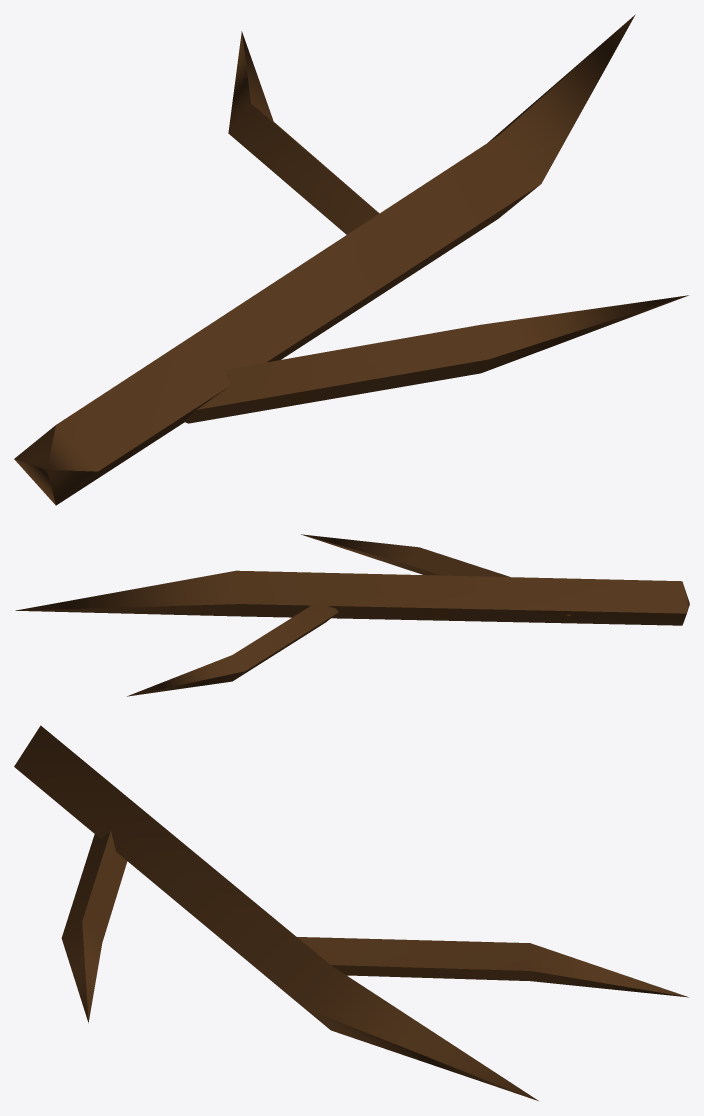
The model's file is Stick_Geo.glb.
The picture shows the model from 3 angles, top to bottom: view 1: azimuth 30°, elevation 25°; view 2: azimuth 150°, elevation 25°; view 3: azimuth 270°, elevation 25°; orthographic projection. The views are drawn at different scales.
Parts seen in each view (by area): view 1: Stick_Geo; view 2: Stick_Geo; view 3: Stick_Geo.
Boxes of the visible parts, bbox=[...] form: Stick_Geo: bbox=[14, 14, 688, 505]; Stick_Geo: bbox=[15, 534, 689, 696]; Stick_Geo: bbox=[14, 725, 688, 1100].
Bounding box in the file's own units: 0.0303 × 0.00261 × 0.0245.
1 material, 1 textured.
